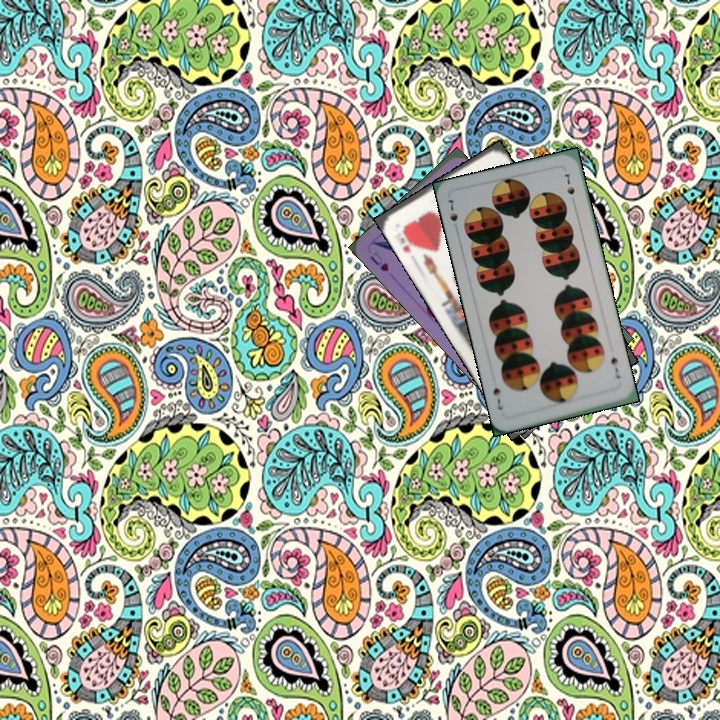HK: (396, 222, 418, 256)
HU: (366, 248, 391, 274)
S7: (607, 353, 624, 381), (444, 195, 460, 224)
